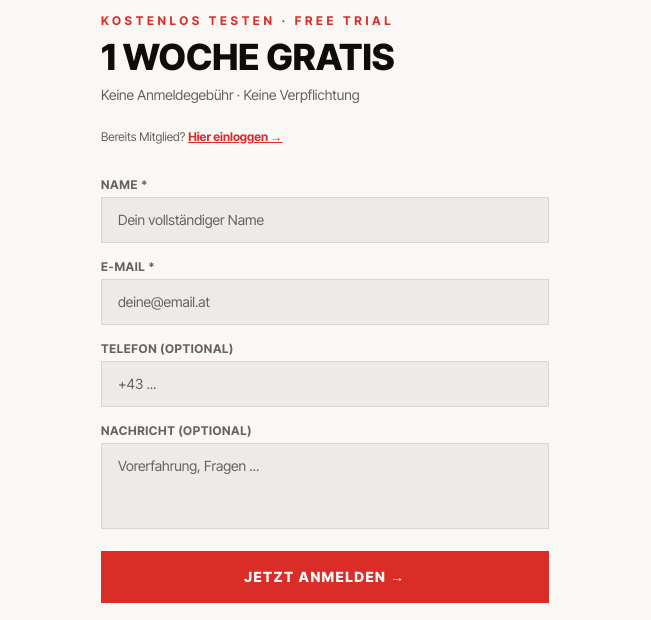
Trial signup page › shows success state after submission
This screenshot has width=651, height=620.
Type "Max Mustermann" into the field labelled "Name *" at (325, 220), box [101,197,549,243]
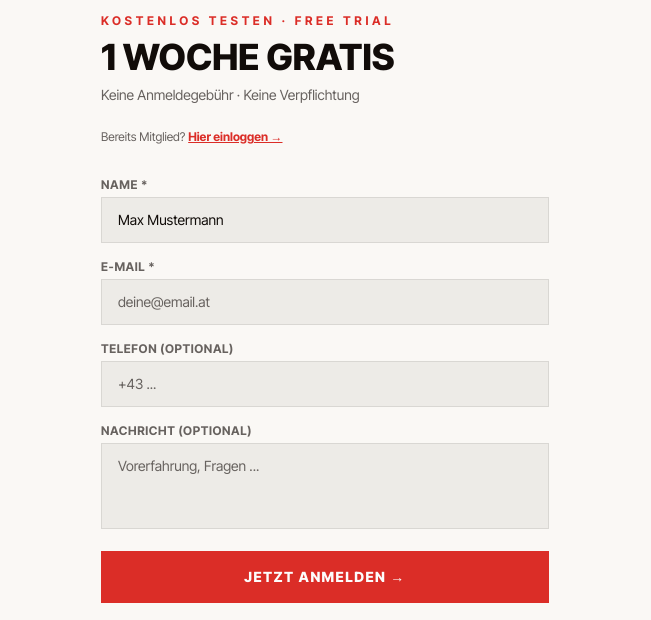
Type "max@example.com" into the field labelled "E-Mail *" at (325, 302), box [101,279,549,325]
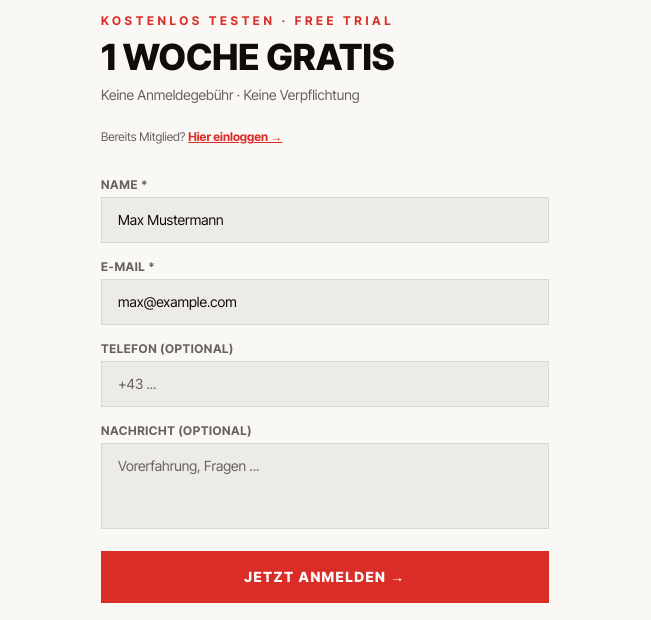
Click the button "Jetzt Anmelden →" at (325, 577), box [101,551,549,603]
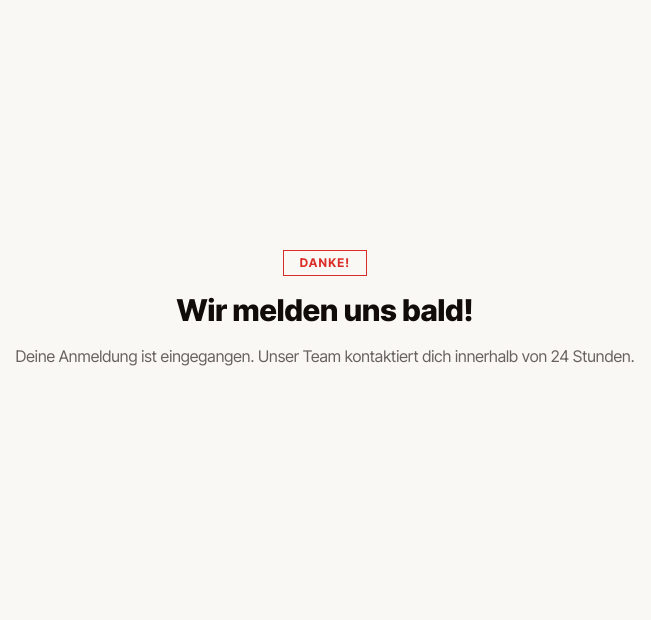
Check: the text "Danke!" is shown, box [283,250,367,276]
